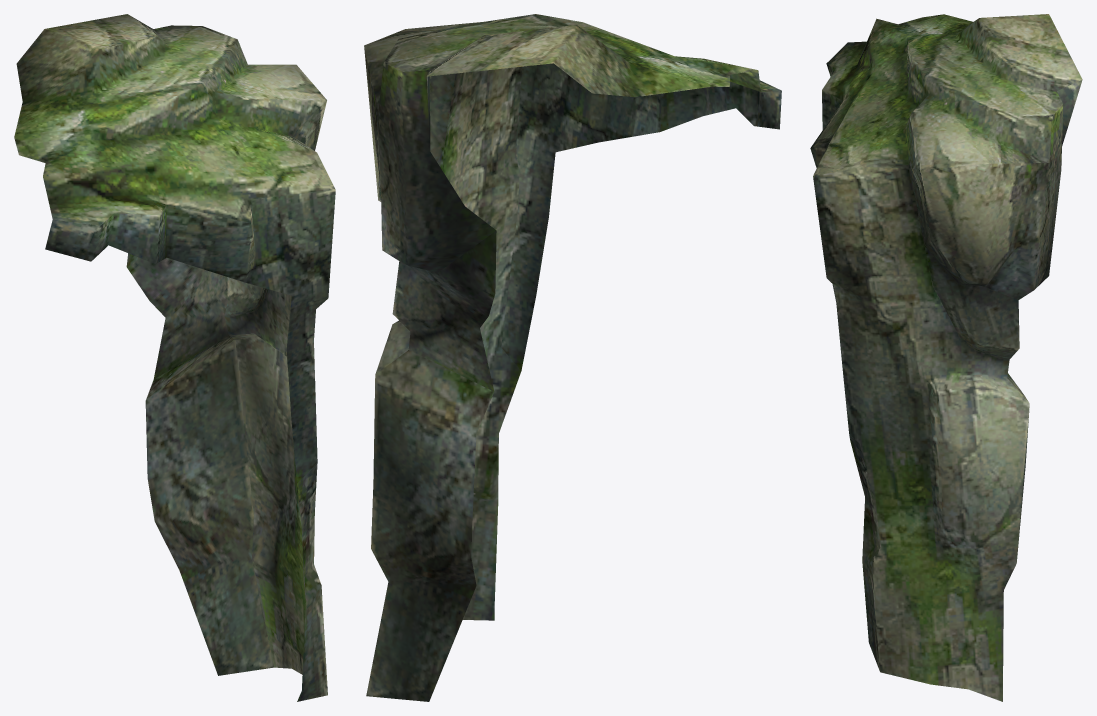
Rendered from S_Rock_Green047_1060_2.fbx.
3 renders of one model, left to right at view 1: azimuth 30°, elevation 25°; view 2: azimuth 150°, elevation 25°; view 3: azimuth 270°, elevation 25°, orthographic. The views are drawn at different scales.
Parts seen in each view (by area): view 1: S_Rock_Green047_1060_2; view 2: S_Rock_Green047_1060_2; view 3: S_Rock_Green047_1060_2.
Part boxes in pixels (bbox=[...]): S_Rock_Green047_1060_2: bbox=[14, 14, 335, 701]; S_Rock_Green047_1060_2: bbox=[364, 14, 781, 701]; S_Rock_Green047_1060_2: bbox=[810, 14, 1082, 701].
Bounding box in the file's own units: 971 × 1933 × 792.
Materials: 1 (1 with a texture image).
